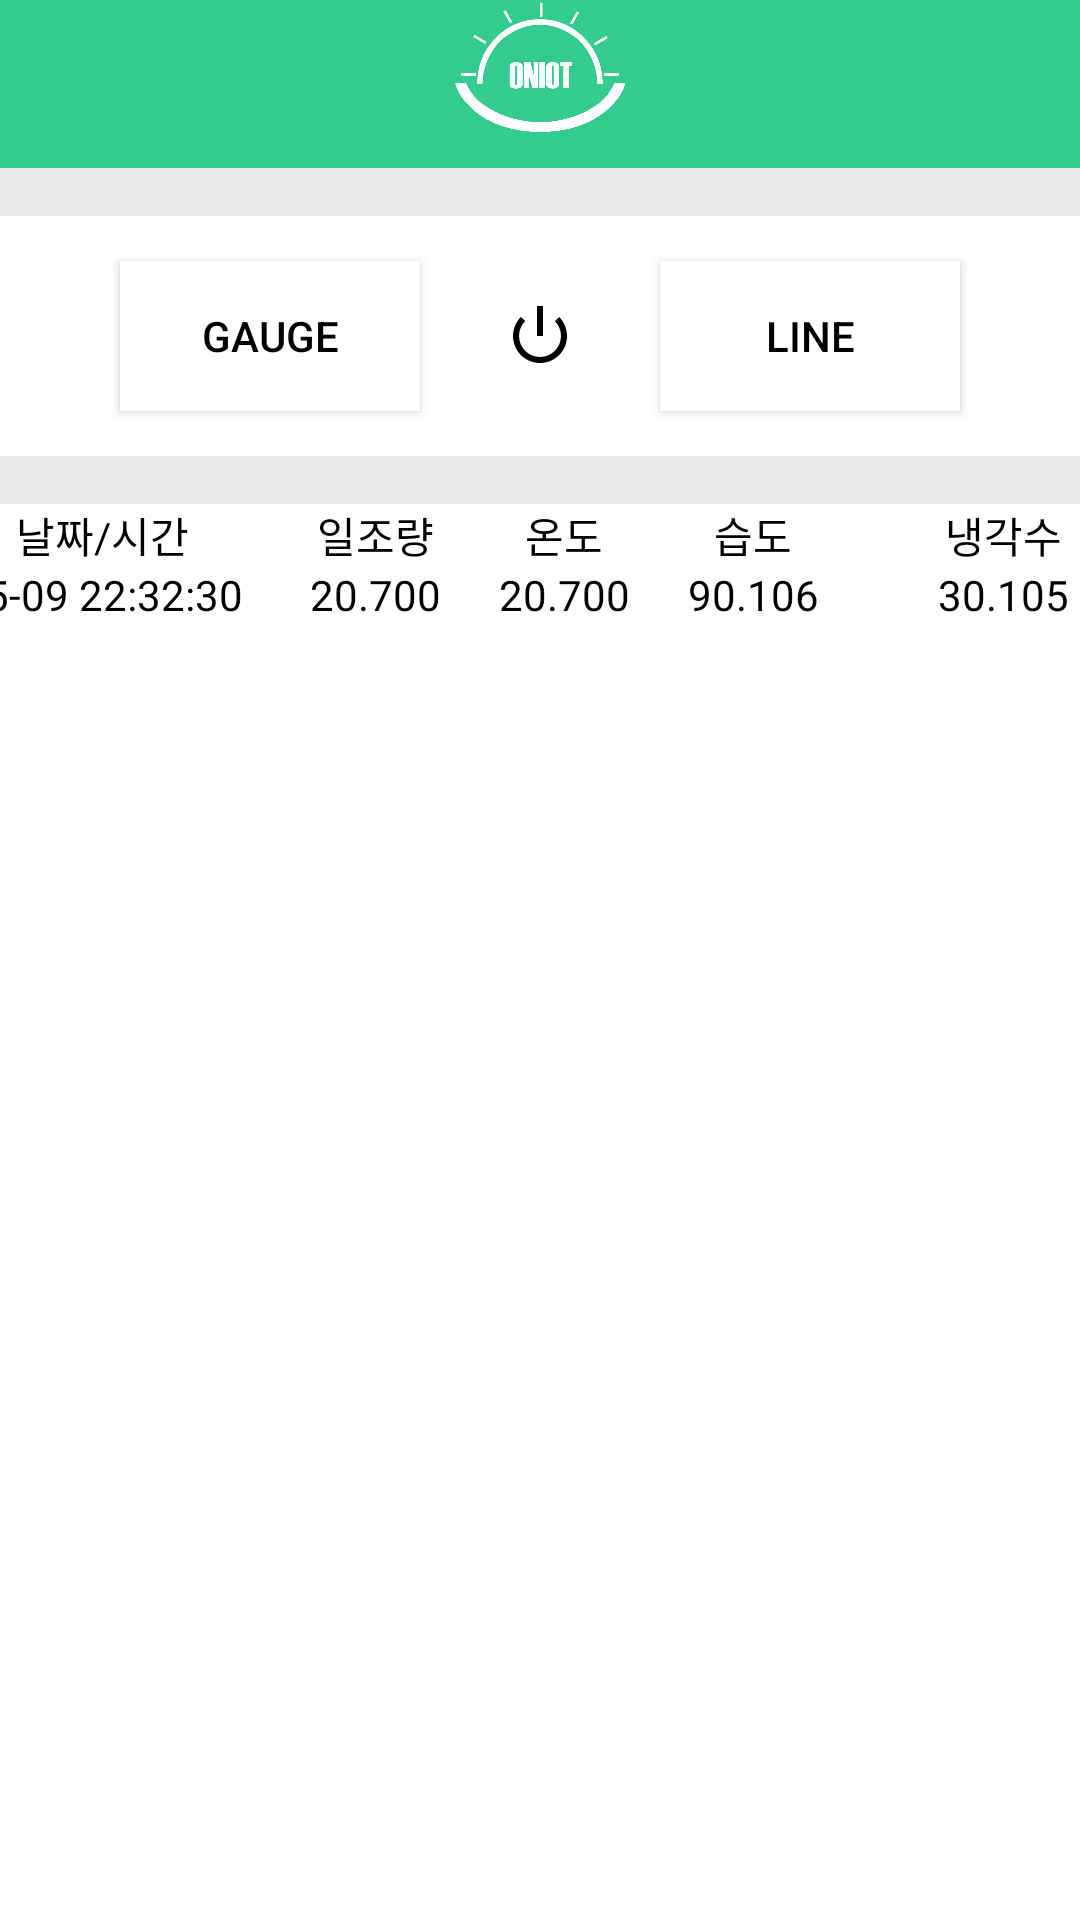

Where to tap for icons on this 1080x1920 app screen, as (x,y):
lock power off: (540,334)
